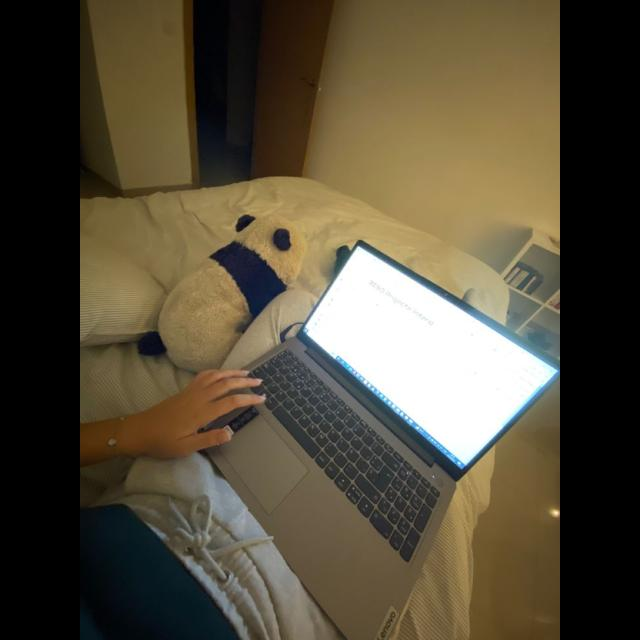laptop: (209, 241, 560, 639)
